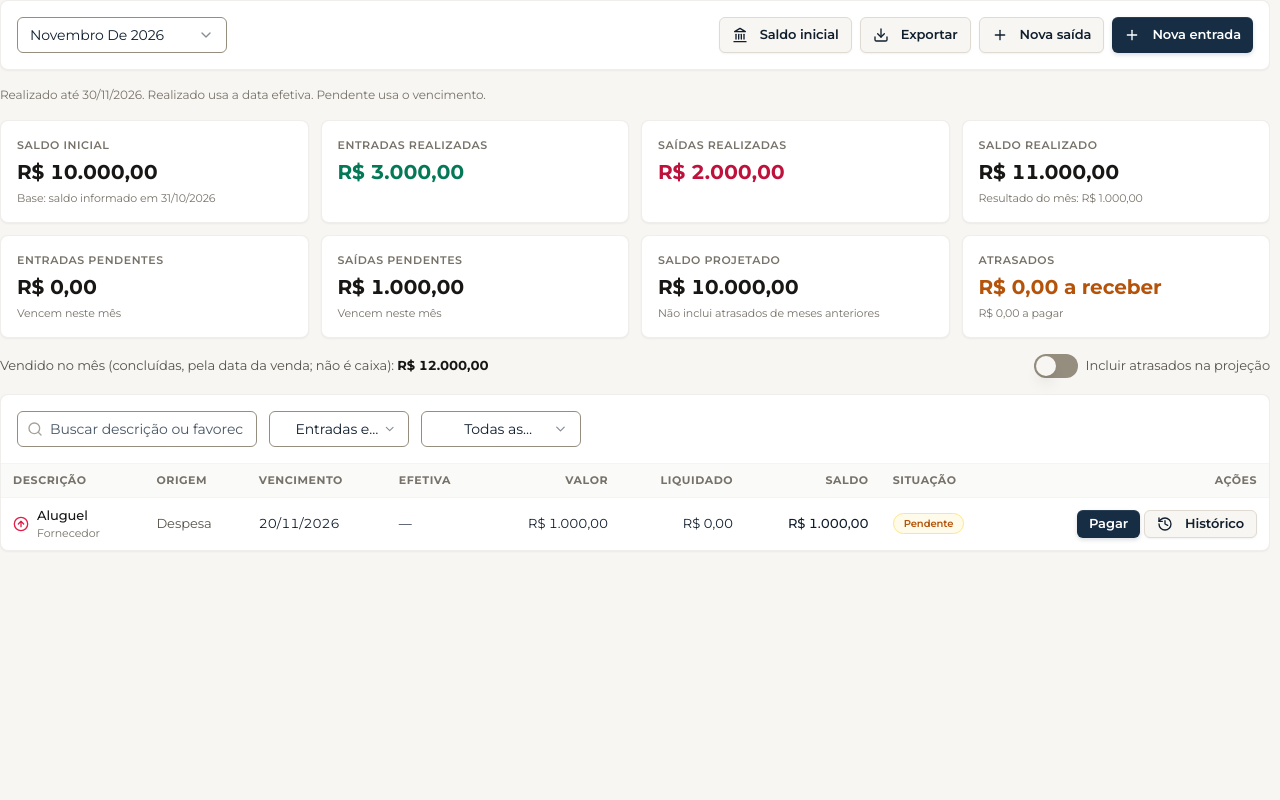
tela do fluxo de caixa › usa Pagar na saída e reenvia com a mesma chave depois de uma falha, sem perder o digitado
Later steps or results of the test are not shown.
Click the button "Pagar".
click(1109, 524)  # box [1077,510,1140,538]
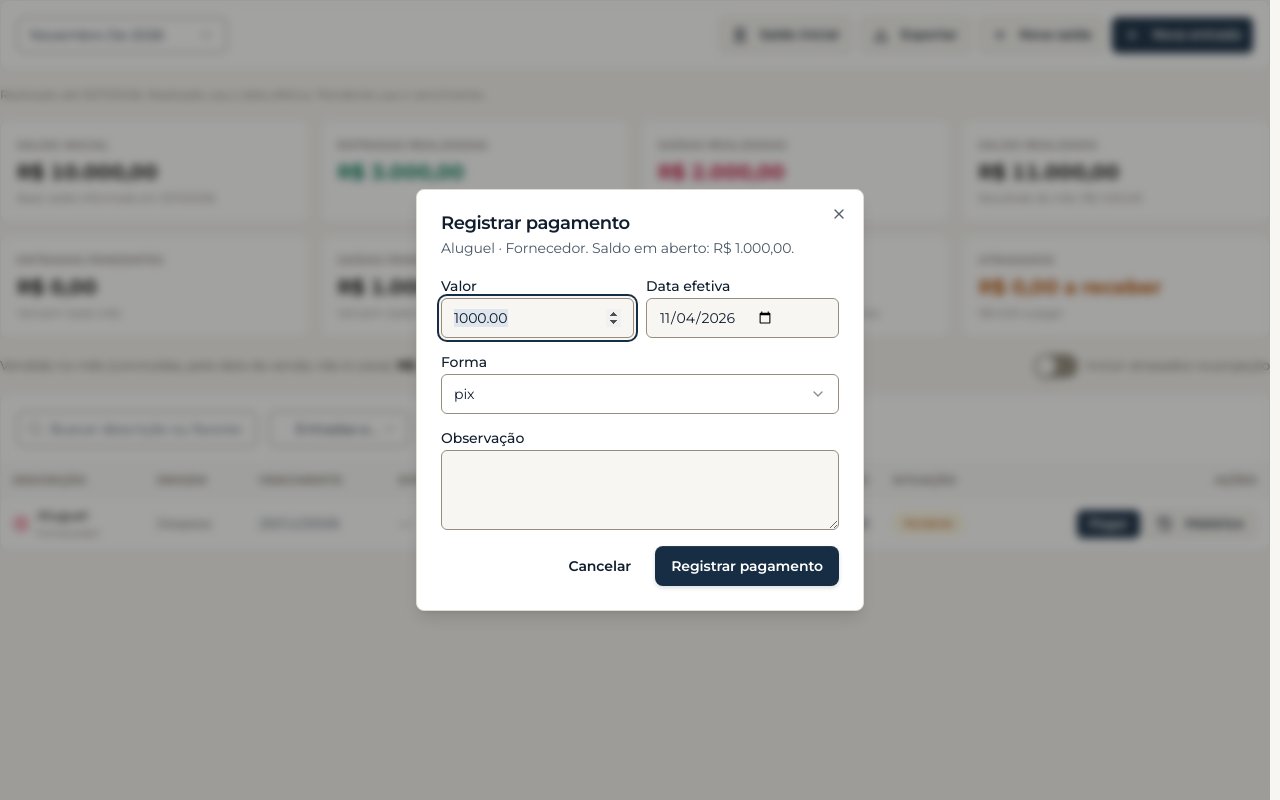
Click the button "Registrar pagamento".
click(747, 566)  # box [655,546,839,586]
Result: the button "Registrar pagamento" is enabled at [655,546,839,586]
